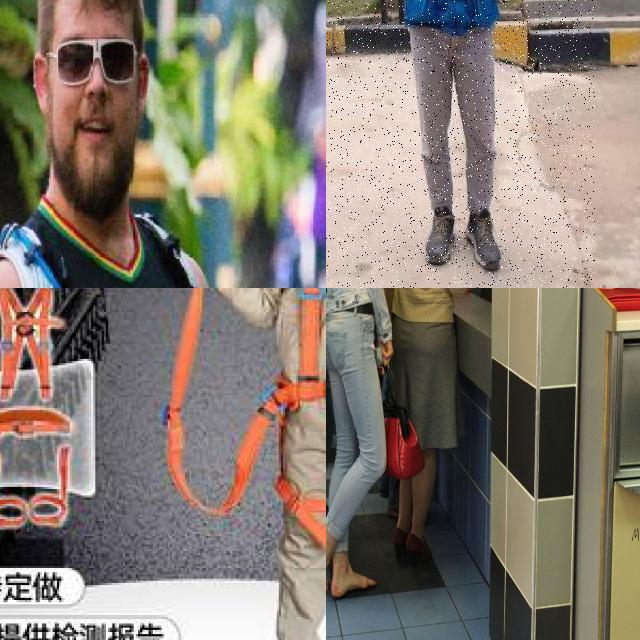Barefoots: (331, 572, 377, 598)
Harness: (259, 288, 326, 576)
No_Ear-Protection: (27, 52, 54, 114)
boots: (462, 206, 504, 271), (425, 201, 456, 268)
face_nomask: (50, 40, 129, 149)
glasses: (32, 32, 141, 86)
head_nohelmet: (34, 0, 143, 25)
person: (326, 0, 595, 288), (0, 0, 228, 288)
